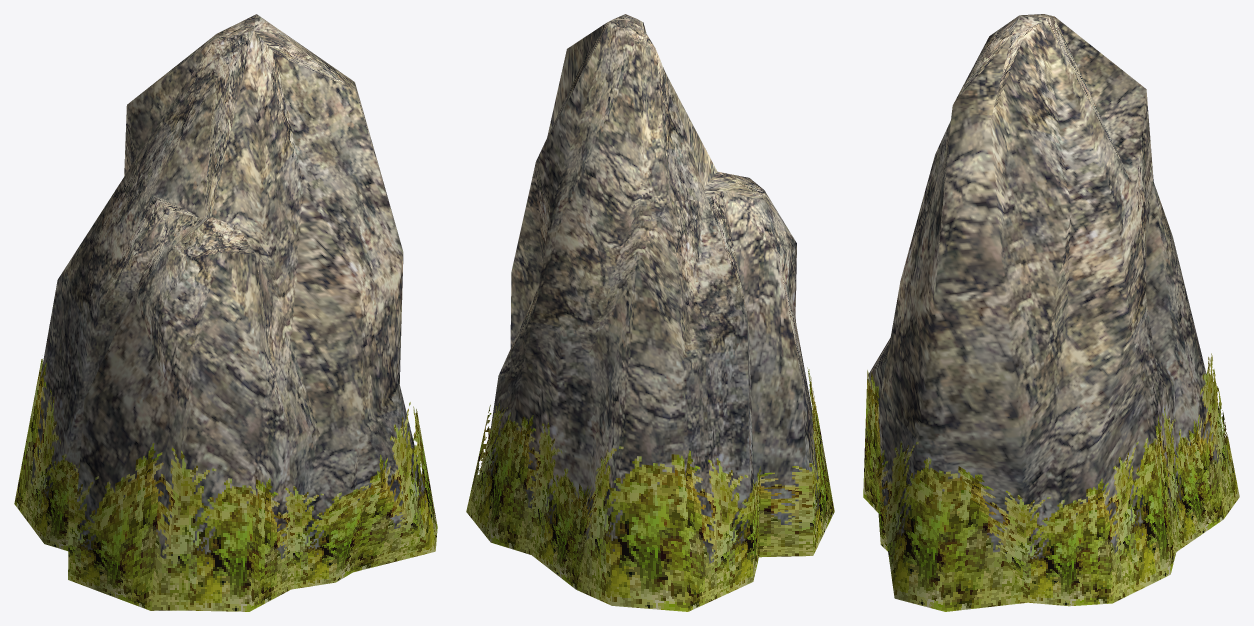
The model's file is WhiteRock.gltf.
3 renders of one model, left to right at view 1: azimuth 30°, elevation 25°; view 2: azimuth 150°, elevation 25°; view 3: azimuth 270°, elevation 25°, orthographic. The views are drawn at different scales.
Parts seen in each view (by area): view 1: WhiteRockMesh, RockGrass; view 2: WhiteRockMesh, RockGrass; view 3: WhiteRockMesh, RockGrass.
Boxes of the visible parts, x1,y1,x2,y2 form: WhiteRockMesh: (31, 14, 426, 564); RockGrass: (14, 359, 437, 611); WhiteRockMesh: (488, 14, 819, 563); RockGrass: (466, 367, 834, 611); WhiteRockMesh: (868, 14, 1219, 566); RockGrass: (863, 353, 1239, 611).
Size of the model in its own units: 1.82 by 2.69 by 1.74.
2 materials, 2 textured.
